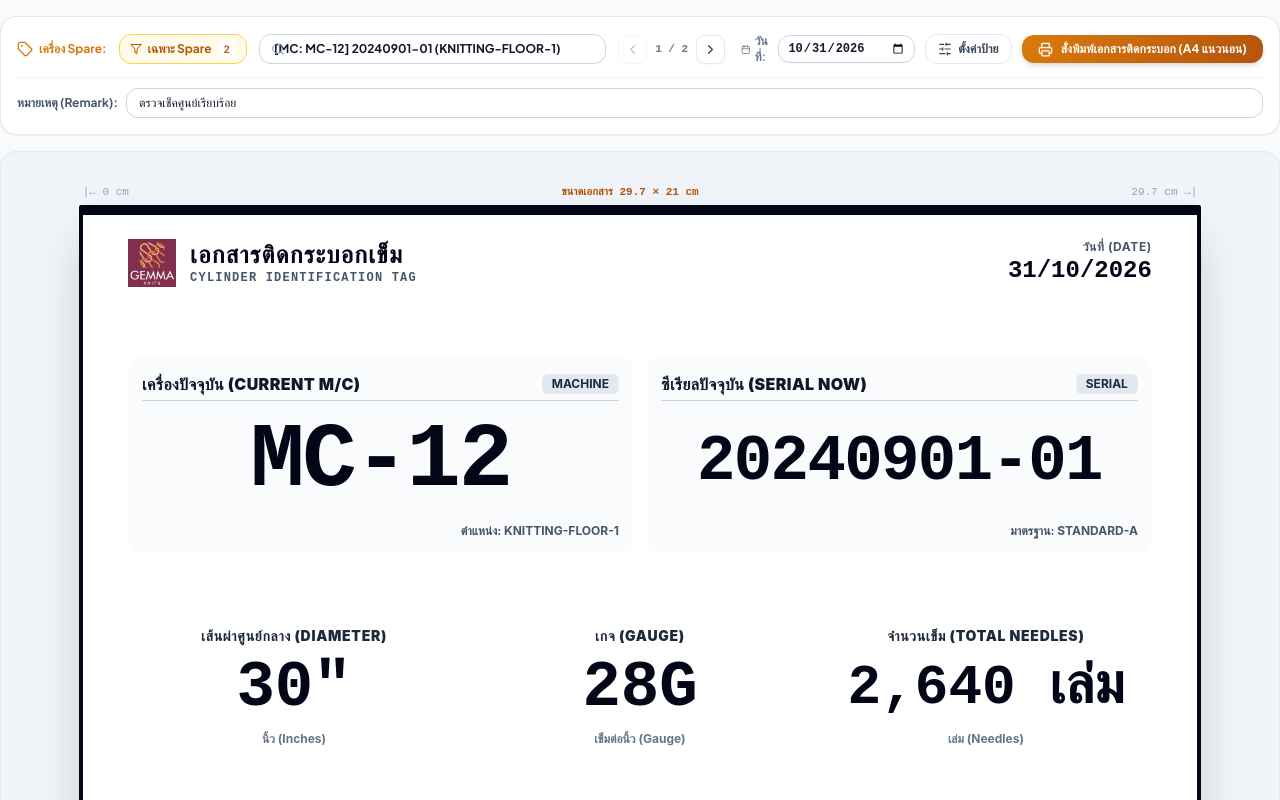
Test: CylinderTagView Component (Customizable Tack Spare Tag) › filters only spare machines by default and allows toggling to all cylinders
Check: the text "2" is shown, box [218, 41, 236, 57]
// Toggle filter to all cylinders
Click the button "เฉพาะ Spare 2". click: point(183, 49)
box: [119, 34, 247, 64]
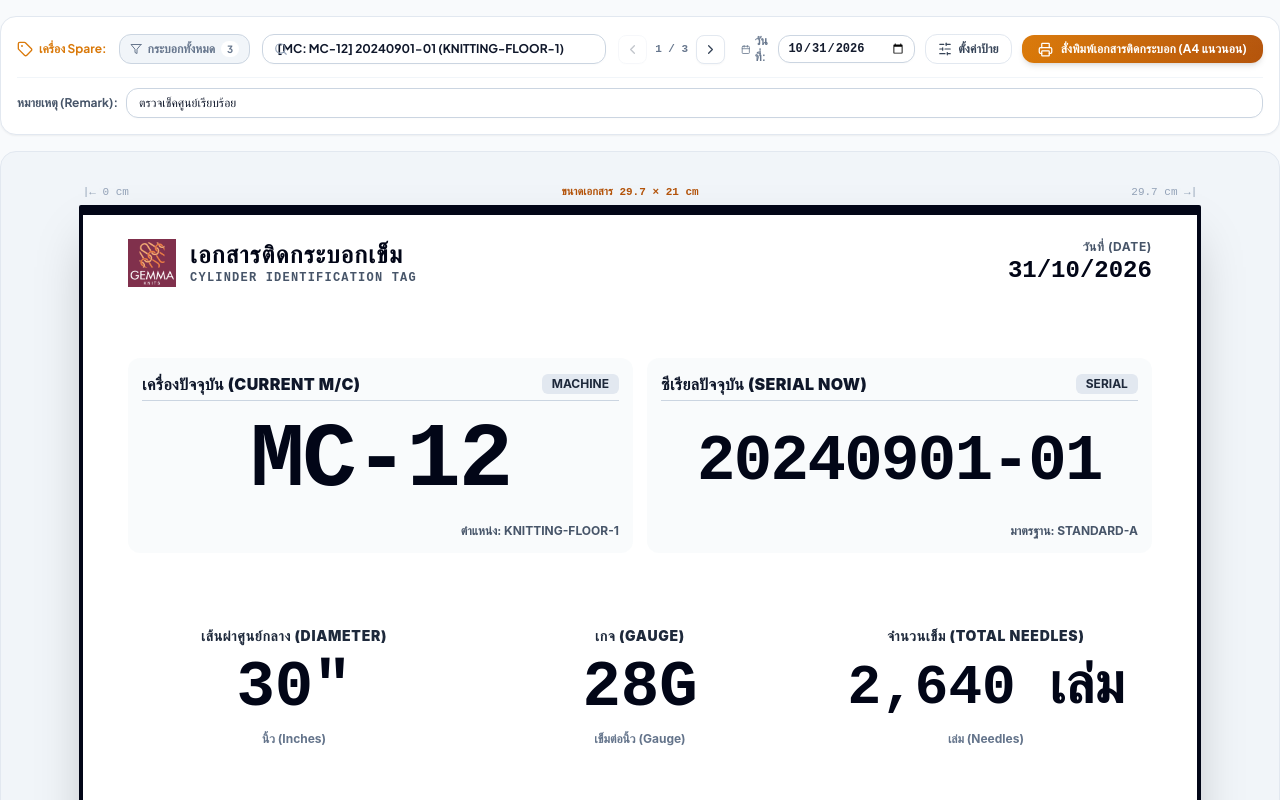
Check: the button "กระบอกทั้งหมด 3" is shown, box [119, 34, 250, 64]
Check: the text "3" is shown, box [221, 41, 239, 57]
